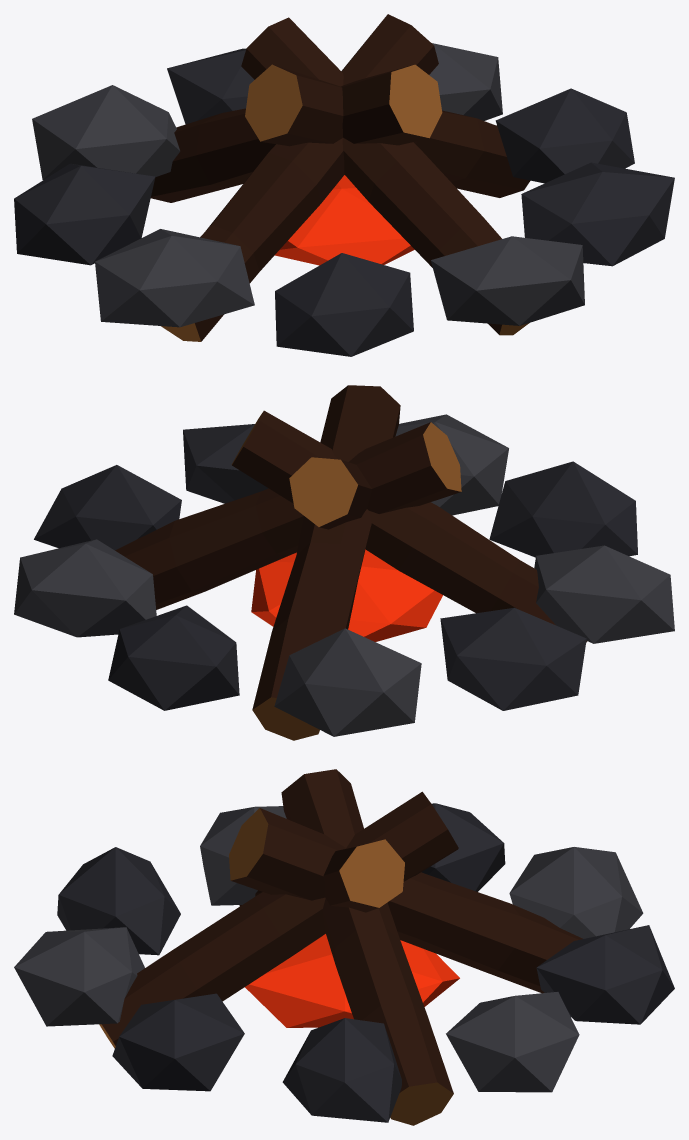
Rendered from campfire.obj.
3 renders of one model, top to bottom at view 1: azimuth 30°, elevation 25°; view 2: azimuth 150°, elevation 25°; view 3: azimuth 270°, elevation 25°, orthographic.
Parts seen in each view (by area): view 1: Stones, Logs, Embers; view 2: Stones, Logs, Embers; view 3: Stones, Logs, Embers.
Part boxes in pixels (x1,y1,x2,y2): Stones: [14, 43, 674, 356]; Logs: [150, 14, 530, 341]; Embers: [274, 175, 414, 265]; Stones: [14, 414, 674, 736]; Logs: [115, 385, 587, 740]; Embers: [251, 549, 442, 641]; Stones: [14, 803, 674, 1122]; Logs: [99, 769, 582, 1125]; Embers: [245, 934, 459, 1027].
Size of the model in its own units: 4.03 by 1.52 by 4.
